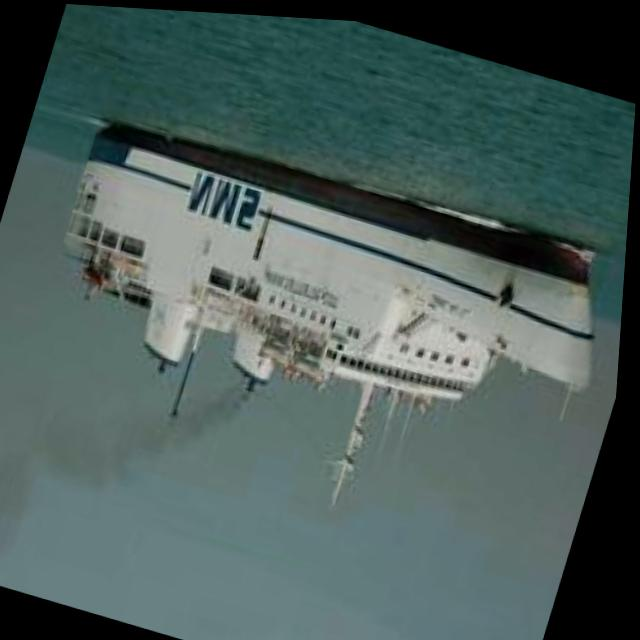ship2: (68, 120, 604, 507)
